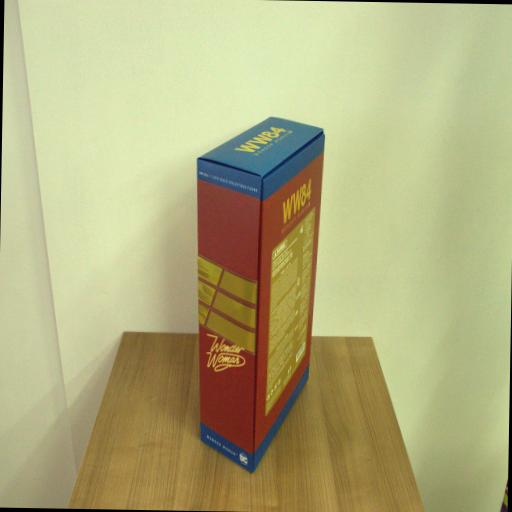WonderWoman: (190, 114, 325, 474)
